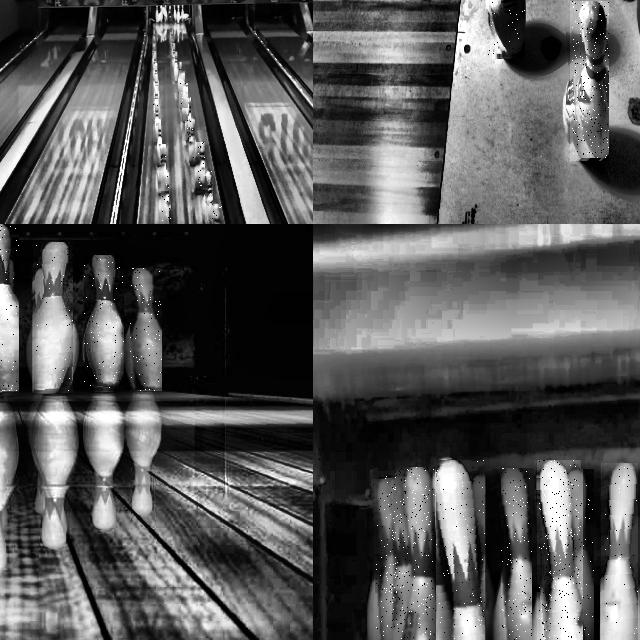bowling-pins: (433, 460, 484, 640), (539, 460, 581, 640), (603, 463, 638, 640), (397, 468, 433, 640), (34, 242, 73, 392), (572, 1, 609, 159), (84, 256, 124, 389), (501, 469, 532, 640), (567, 470, 594, 640), (130, 268, 162, 390), (463, 476, 486, 640), (132, 268, 161, 391), (385, 475, 405, 640), (0, 229, 18, 394), (376, 480, 390, 640), (488, 0, 525, 55), (205, 171, 212, 224), (162, 171, 168, 224), (153, 100, 160, 142), (198, 143, 204, 191), (189, 118, 195, 163), (156, 120, 162, 164), (180, 71, 184, 107), (213, 204, 220, 224), (162, 145, 165, 190), (163, 202, 169, 224), (187, 98, 190, 135), (185, 84, 187, 121)
